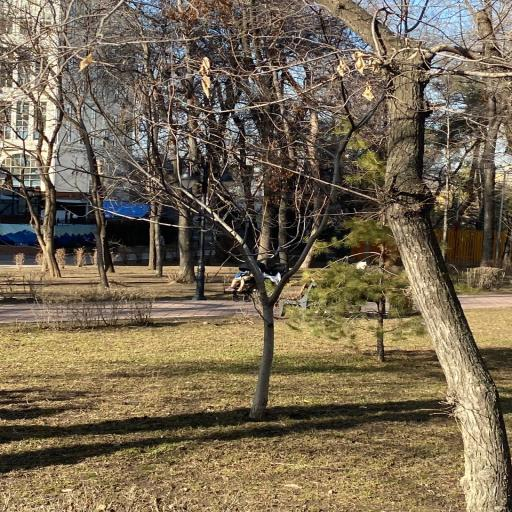phone: (193, 164, 210, 300)
shelf: (0, 300, 255, 326)
steps_down: (225, 266, 257, 301)
trash_bin: (275, 280, 316, 317)
